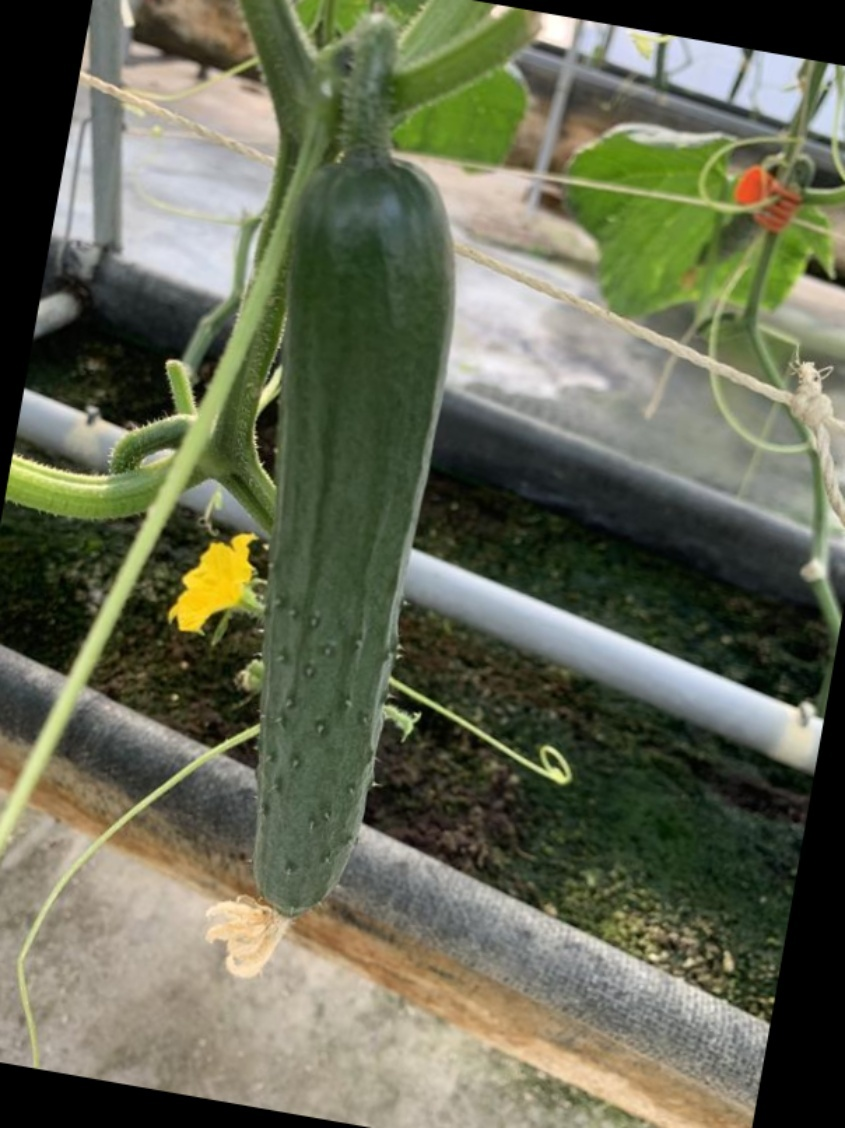mature: (190, 146, 481, 926)
